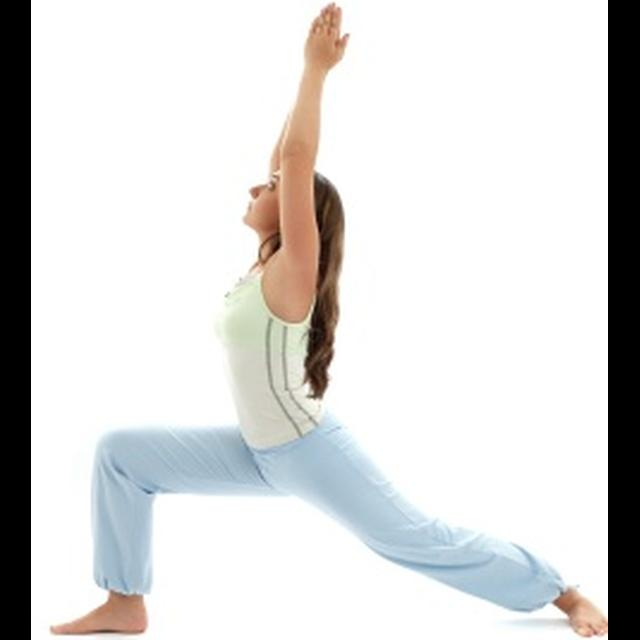Warrior_I: (47, 3, 604, 640)
